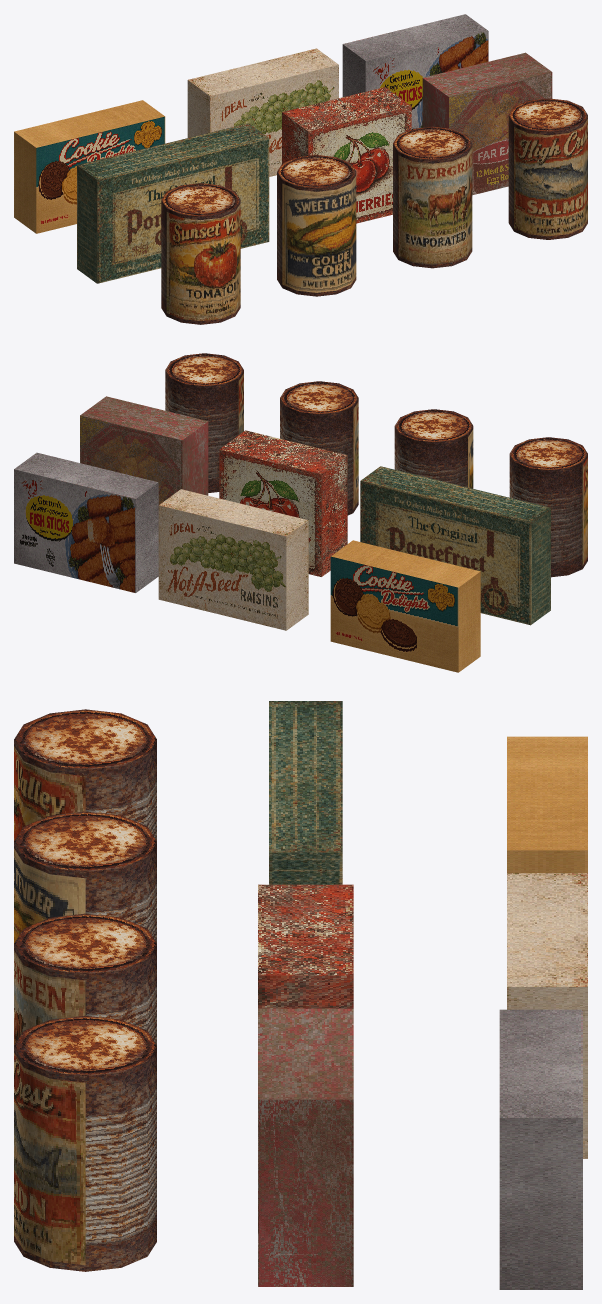
File: foodpsx.glb
3 views of the same model, one above another, from view 1: azimuth 30°, elevation 25°; view 2: azimuth 150°, elevation 25°; view 3: azimuth 270°, elevation 25° (orthographic). The views are drawn at different scales.
Visible parts, largest first — view 1: Cake, Cookie, Milk, Salmon, Tomatoes, Corn, Egg, Cherry, Raisins, Fish; view 2: Cake, Raisins, Fish, Cookie, Cherry, Egg, Tomatoes, Salmon, Milk, Corn; view 3: Salmon, Egg, Fish, Tomatoes, Corn, Milk, Cake, Cherry, Raisins, Cookie.
Boxes of the visible parts, x1,y1,x2,y2 form: Cake: (77,123,269,283); Cookie: (14,100,165,233); Milk: (393,126,472,268); Salmon: (508,98,587,239); Tomatoes: (161,183,240,324); Corn: (277,155,356,296); Egg: (422,52,552,195); Cherry: (282,87,411,223); Raisins: (187,48,338,176); Fish: (342,14,488,128); Cake: (360,466,550,625); Raisins: (158,489,308,630); Fish: (14,452,158,592); Cookie: (330,540,480,672); Cherry: (219,430,347,576); Egg: (80,396,208,504); Tomatoes: (509,437,587,577); Salmon: (165,353,243,492); Milk: (280,381,358,515); Corn: (394,409,473,488); Salmon: (14,1015,156,1271); Egg: (258,1008,353,1286); Fish: (499,1009,582,1289); Tomatoes: (14,709,156,840); Corn: (14,811,156,943); Milk: (14,913,156,1045); Cake: (269,701,342,884); Cherry: (258,884,353,1008); Raisins: (507,873,587,1158); Cookie: (507,736,587,872).
Bounding box in the file's own units: 55.03 × 12.51 × 33.26.
Materials: 14 (14 with a texture image).
